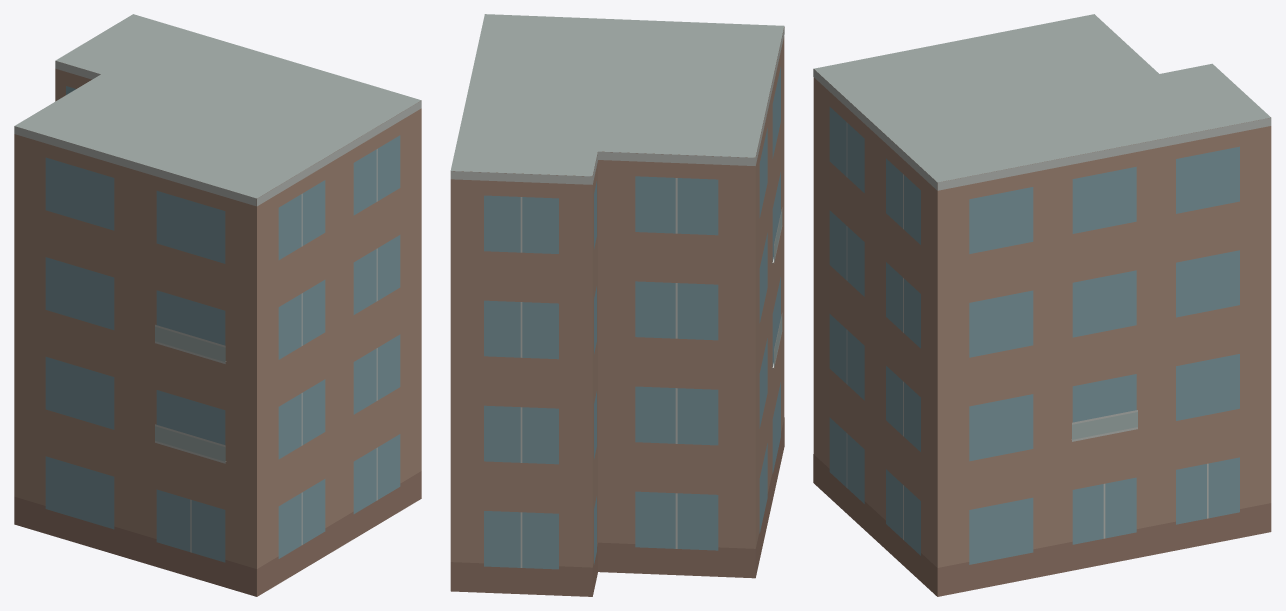
The model's file is residential-882d1acd-105d-47b1-a41e-5596326804e2.glb.
3 renders of one model, left to right at view 1: azimuth 30°, elevation 25°; view 2: azimuth 150°, elevation 25°; view 3: azimuth 270°, elevation 25°, orthographic. The views are drawn at different scales.
Parts seen in each view (by area): view 1: residential-882d1acd-105d-47b1-a41e-5596326804e2.tmp; view 2: residential-882d1acd-105d-47b1-a41e-5596326804e2.tmp; view 3: residential-882d1acd-105d-47b1-a41e-5596326804e2.tmp.
Part boxes in pixels (x1,y1,x2,y2): residential-882d1acd-105d-47b1-a41e-5596326804e2.tmp: (14, 14, 421, 596); residential-882d1acd-105d-47b1-a41e-5596326804e2.tmp: (450, 14, 784, 596); residential-882d1acd-105d-47b1-a41e-5596326804e2.tmp: (813, 14, 1271, 596).
Bounding box in the file's own units: 10.65 × 12.2 × 12.22.
